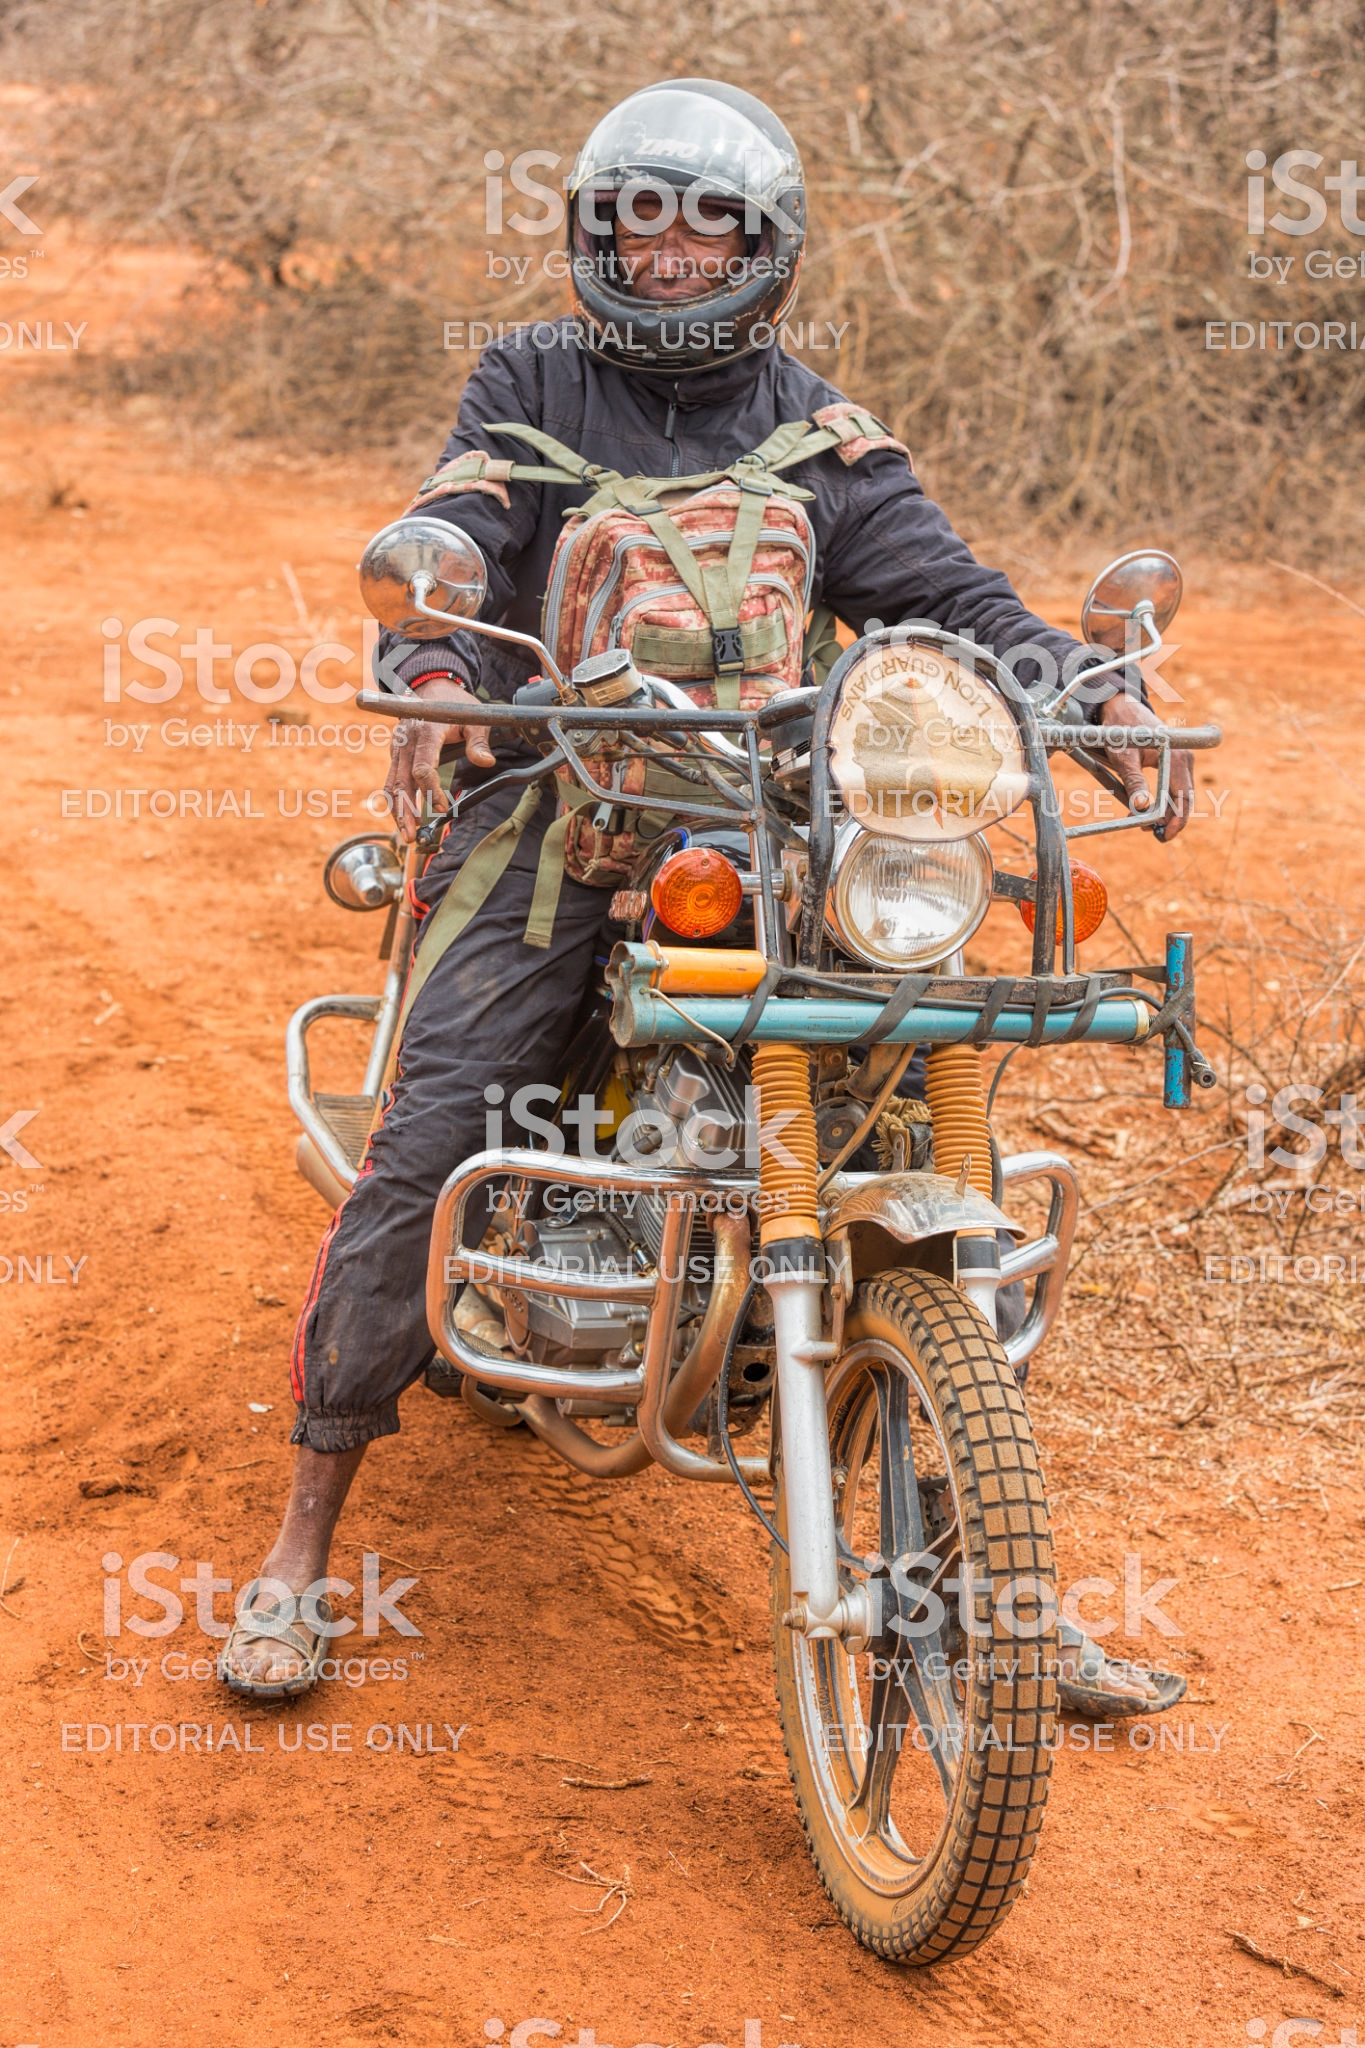helmet: (561, 59, 832, 404)
